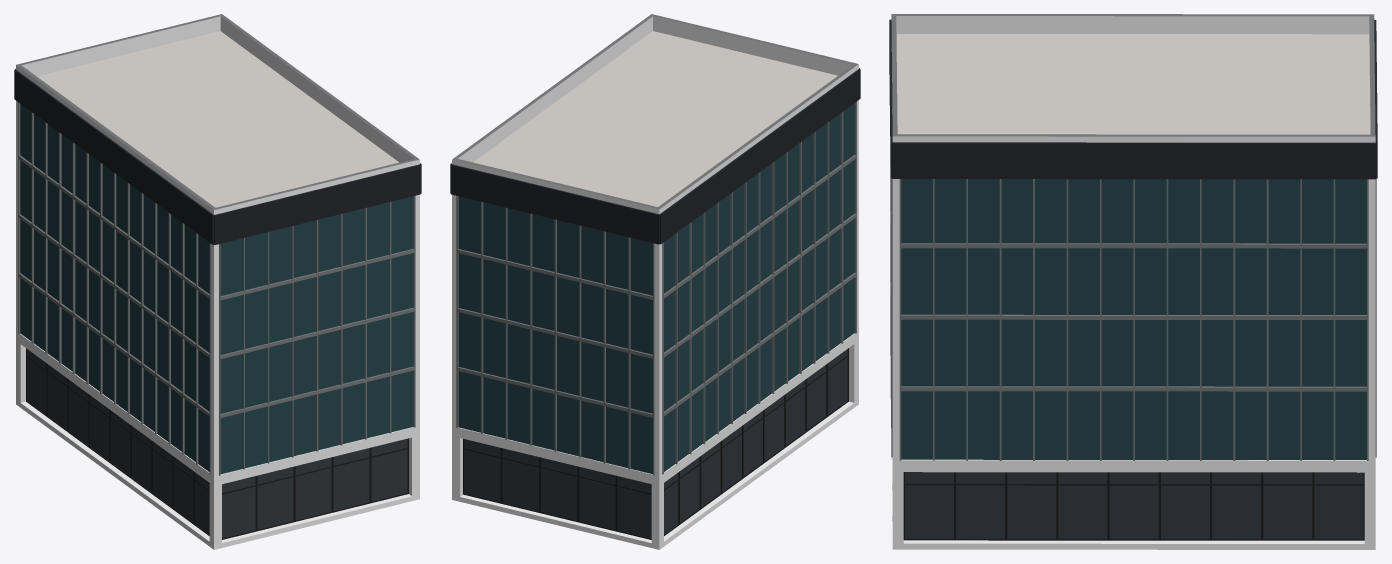
Rendered from momog.glb.
The picture shows the model from 3 angles, left to right: view 1: azimuth 30°, elevation 25°; view 2: azimuth 150°, elevation 25°; view 3: azimuth 270°, elevation 25°; orthographic projection. The views are drawn at different scales.
Visible parts, largest first — view 1: momog; view 2: momog; view 3: momog.
Part boxes in pixels (left/top/right/bottom): momog: left=14, top=14, right=421, bottom=549; momog: left=450, top=14, right=860, bottom=549; momog: left=889, top=14, right=1377, bottom=549.
Size of the model in its own units: 13.45 by 20.8 by 22.28.
